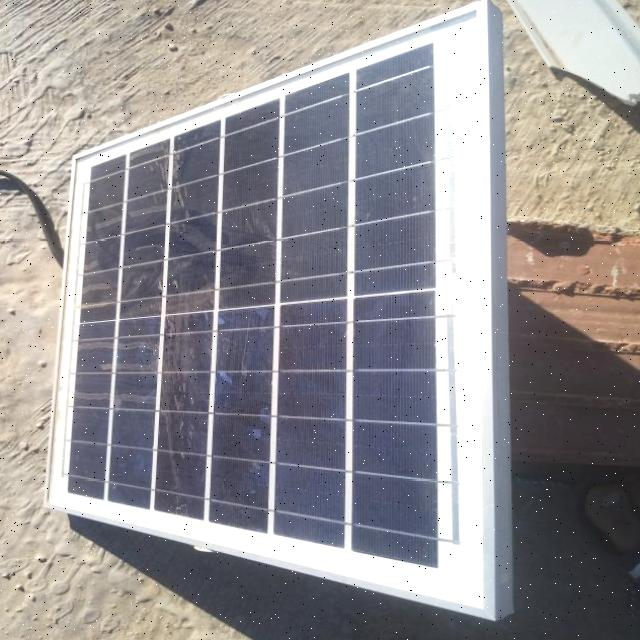Anomaly Solar Panel: (50, 30, 453, 580)
Surface Contaminant: (64, 102, 279, 534)
